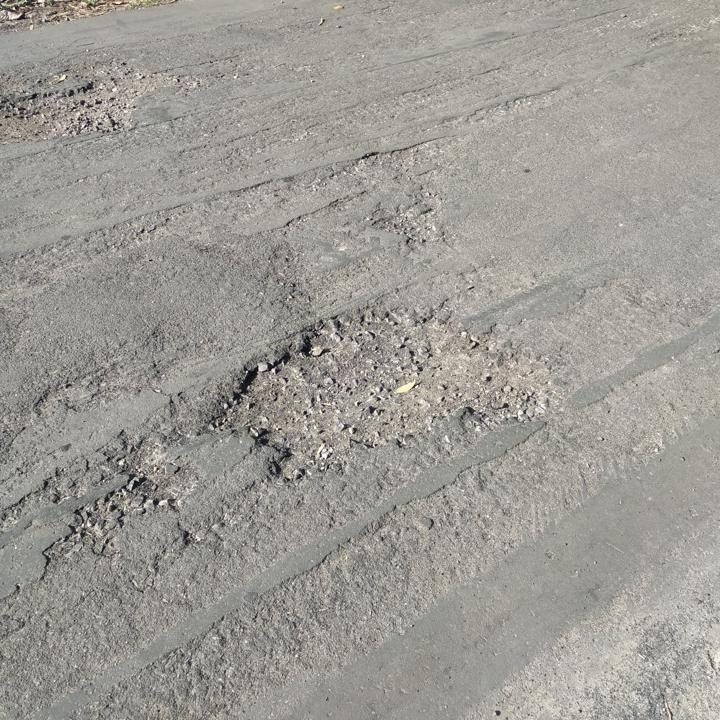pothole: (200, 292, 571, 488), (0, 52, 207, 142), (101, 429, 207, 508), (365, 198, 450, 247)
